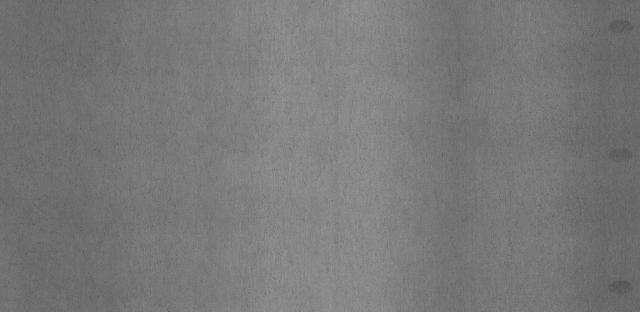oil_spot: (608, 279, 639, 300), (603, 148, 636, 167), (609, 15, 632, 35)
